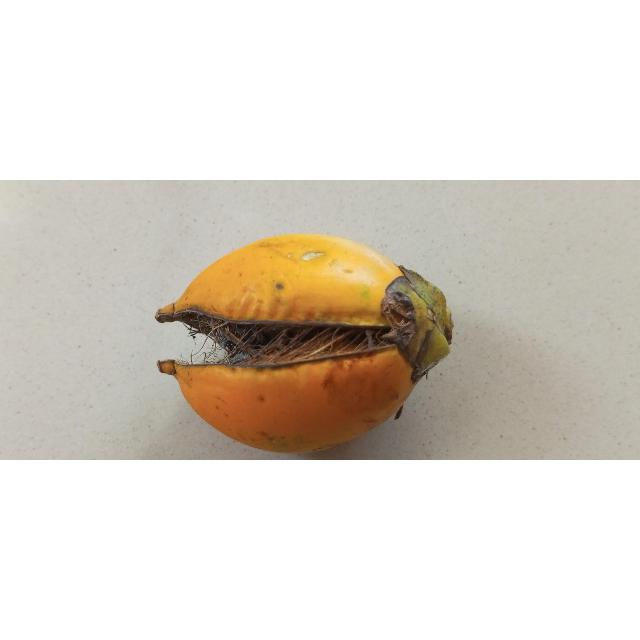damaged: (155, 234, 454, 454)
